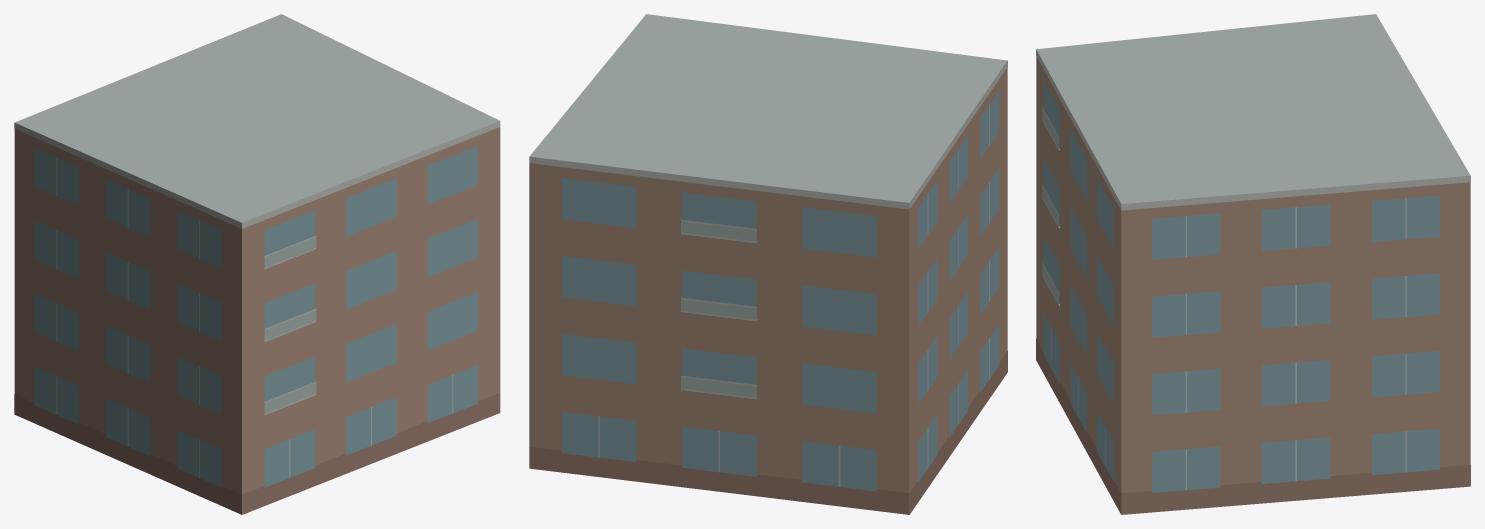
File: survey-upis-32815103.glb
3 views of the same model, side by side, from view 1: azimuth 30°, elevation 25°; view 2: azimuth 150°, elevation 25°; view 3: azimuth 270°, elevation 25° (orthographic). The views are drawn at different scales.
Parts seen in each view (by area): view 1: survey-upis-32815103.tmp; view 2: survey-upis-32815103.tmp; view 3: survey-upis-32815103.tmp.
Part boxes in pixels (left/top/right/bottom): survey-upis-32815103.tmp: left=14, top=14, right=500, bottom=514; survey-upis-32815103.tmp: left=529, top=14, right=1007, bottom=514; survey-upis-32815103.tmp: left=1036, top=14, right=1470, bottom=514.
Bounding box in the file's own units: 15.49 × 11.8 × 14.97.
